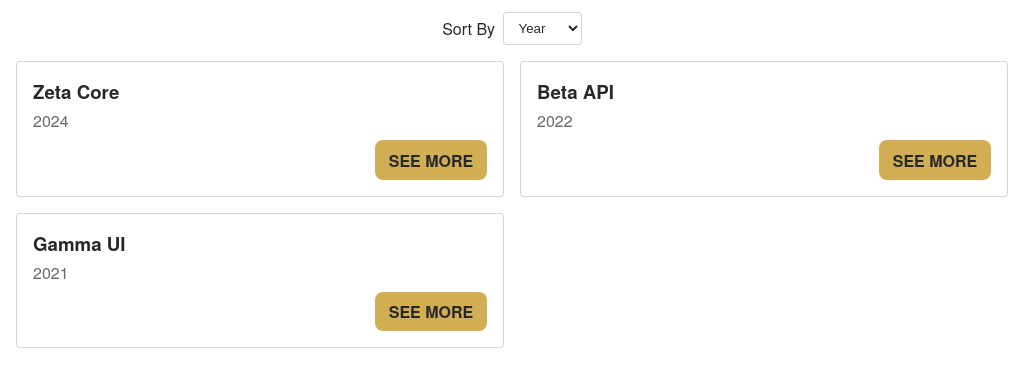
Test: ProjectsList › re-sorts by name when the select changes
This screenshot has width=1024, height=365.
Select "Name" in the dropdown labelled "Sort By" at (542, 29), box x1=503 y1=12 x2=582 y2=45
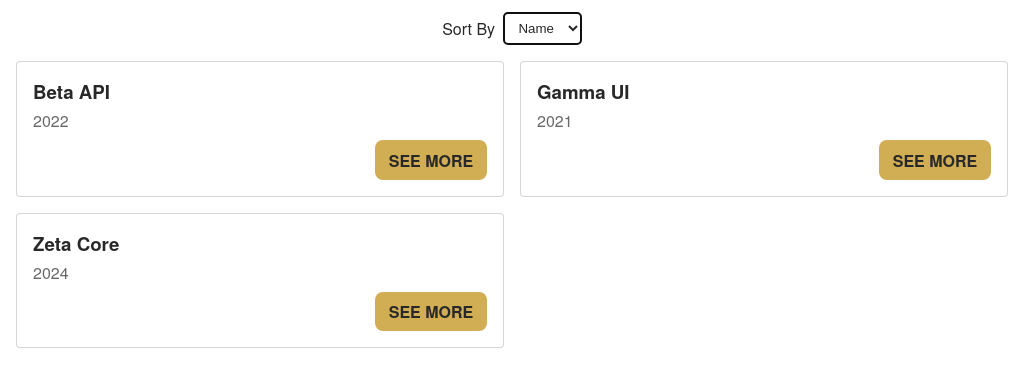
Check: the headings read "Beta API", "Gamma UI", "Zeta Core", in this order, box x1=33 y1=78 x2=110 y2=105; x1=537 y1=78 x2=630 y2=105; x1=33 y1=230 x2=119 y2=257
Select "Year" in the dropdown labelled "Sort By" at (542, 29), box x1=503 y1=12 x2=582 y2=45
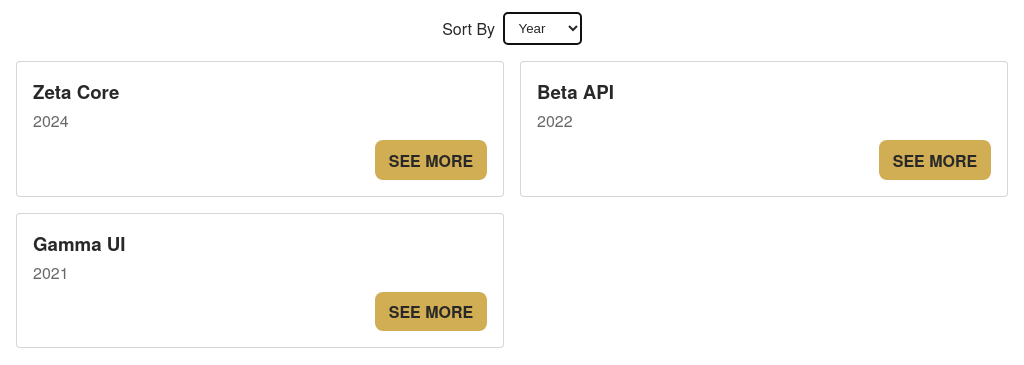
Check: the headings read "Zeta Core", "Beta API", "Gamma UI", in this order, box x1=33 y1=78 x2=119 y2=105; x1=537 y1=78 x2=614 y2=105; x1=33 y1=230 x2=126 y2=257
